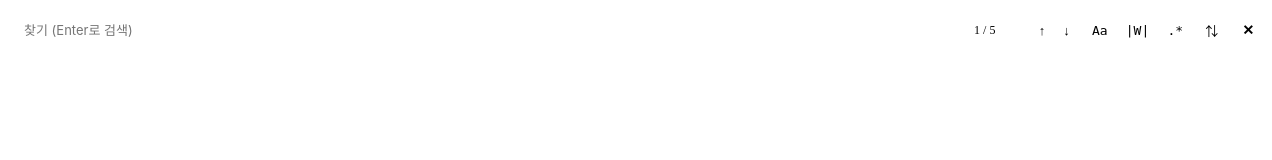
Test case: SearchBar › Replace Functionality › should toggle replace UI
Click the button named "바꾸기 토글" at (1212, 30), box x1=1197 y1=16 x2=1226 y2=44
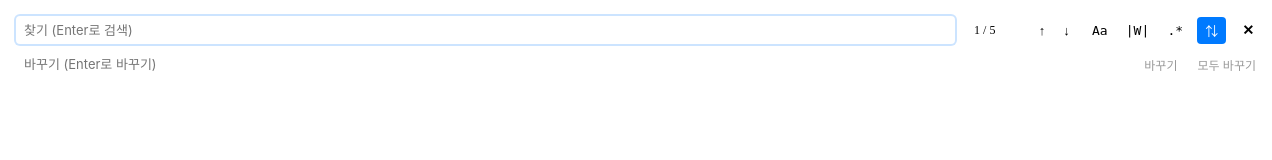
Now the field with placeholder "바꾸기 (Enter로 바꾸기)" is shown, box x1=16 y1=50 x2=1146 y2=78
